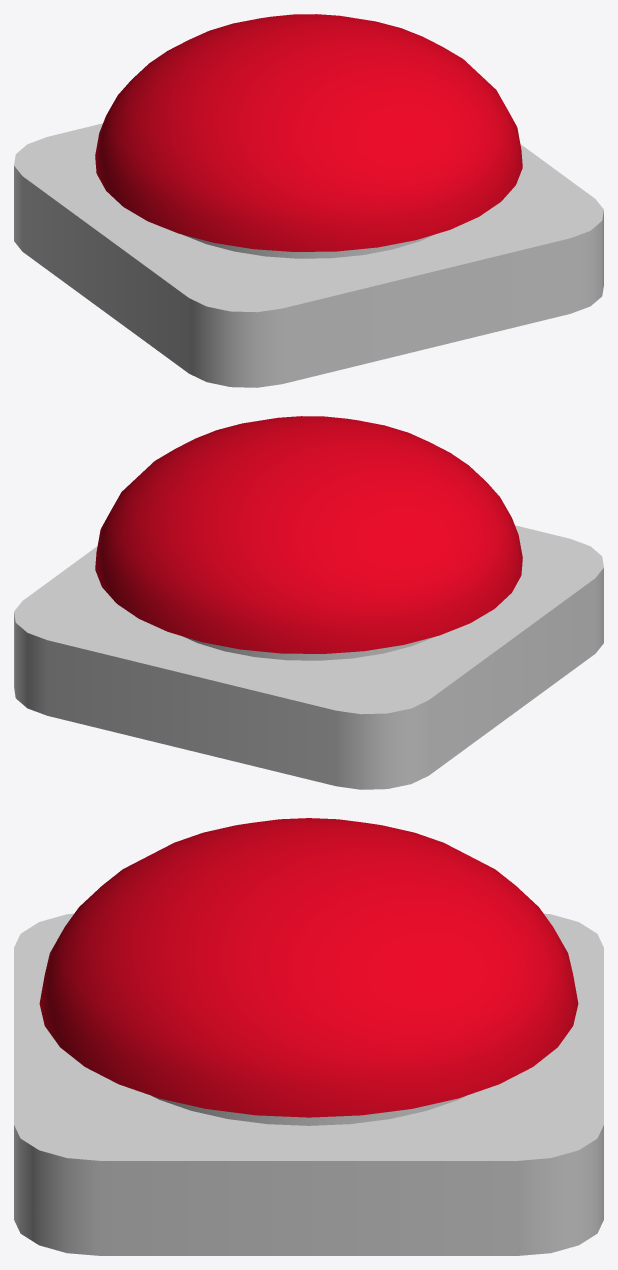
Rendered from buzzer.glb.
3 views of the same model, one above another, from view 1: azimuth 30°, elevation 25°; view 2: azimuth 150°, elevation 25°; view 3: azimuth 270°, elevation 25° (orthographic). The views are drawn at different scales.
Parts seen in each view (by area): view 1: Sphere, Cylinder; view 2: Sphere, Cylinder; view 3: Sphere, Cylinder.
Part boxes in pixels (x1,y1,x2,y2): Sphere: (95,14,522,251); Cylinder: (14,123,603,387); Sphere: (95,416,522,653); Cylinder: (14,525,603,789); Sphere: (39,818,578,1117); Cylinder: (14,913,603,1255).
Bounding box in the file's own units: 0.1866 × 0.0959 × 0.1866.
